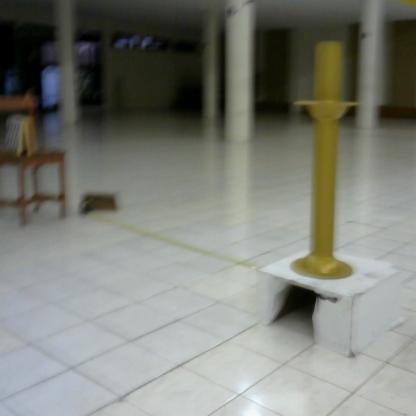pole: (286, 36, 370, 290)
